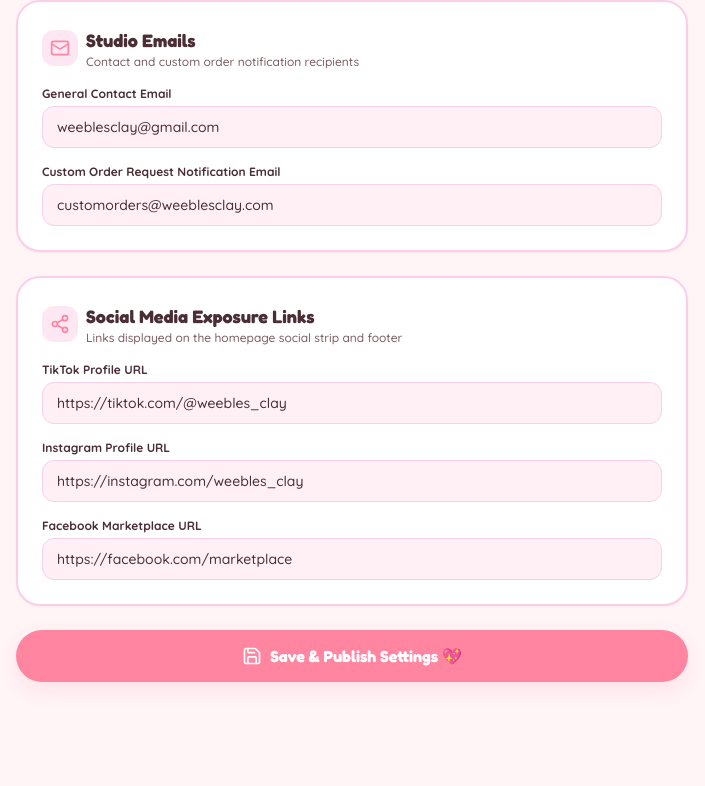
Test case: SettingsTab › shows success message after successful save
What coordinates should you click on to do the following:
click the button "Save & Publish Settings 💖"
I would click on:
 (352, 656)
Its box is [16,630,688,682].
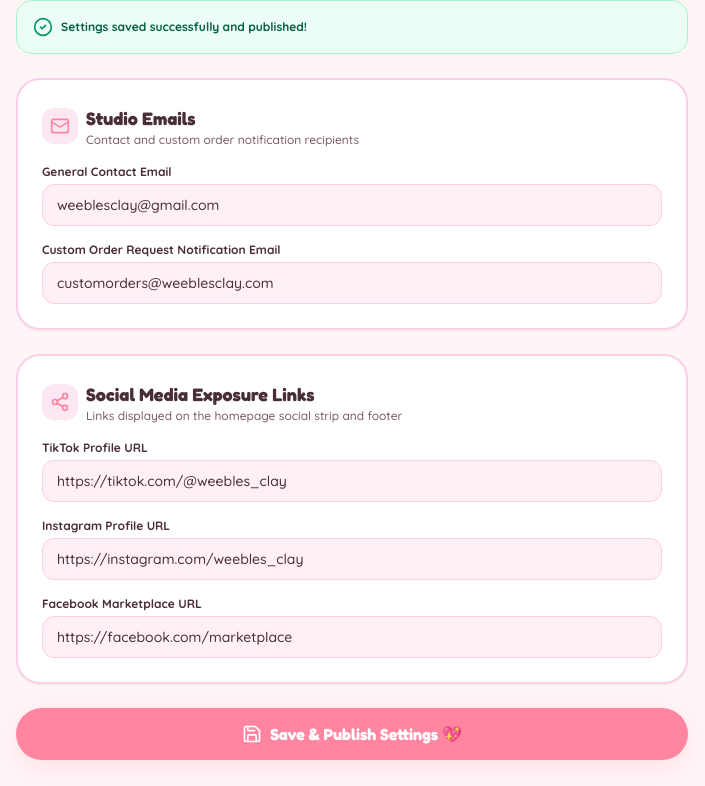
Now the text "Settings saved successfully and published!" is shown, box [61,19,307,35]
